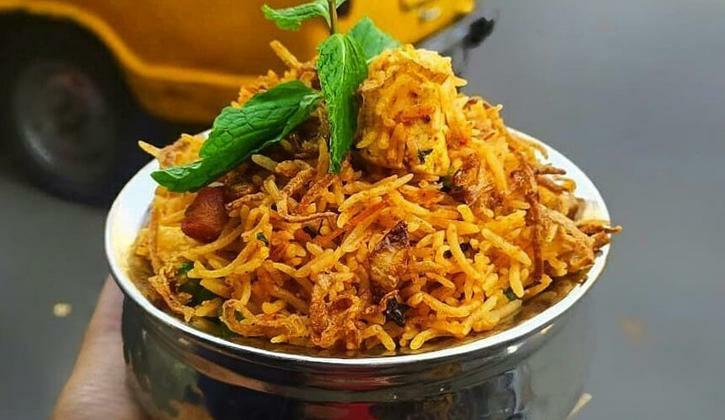Biryani: (125, 0, 621, 357)
